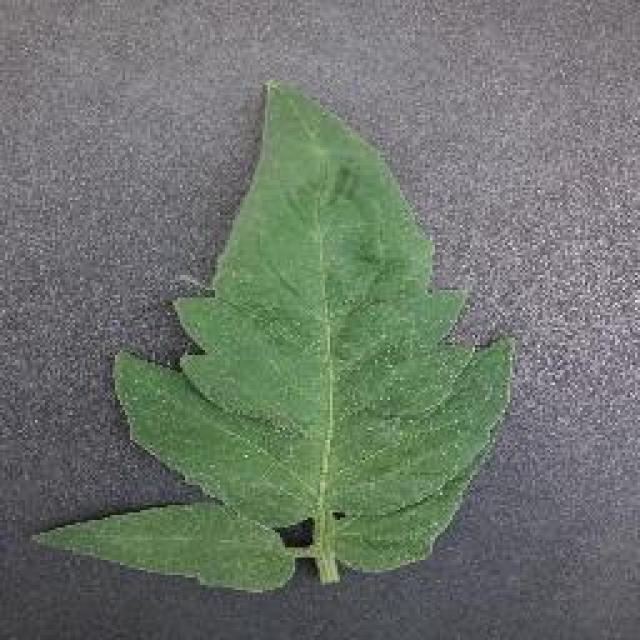Healthy: (18, 65, 520, 610)
